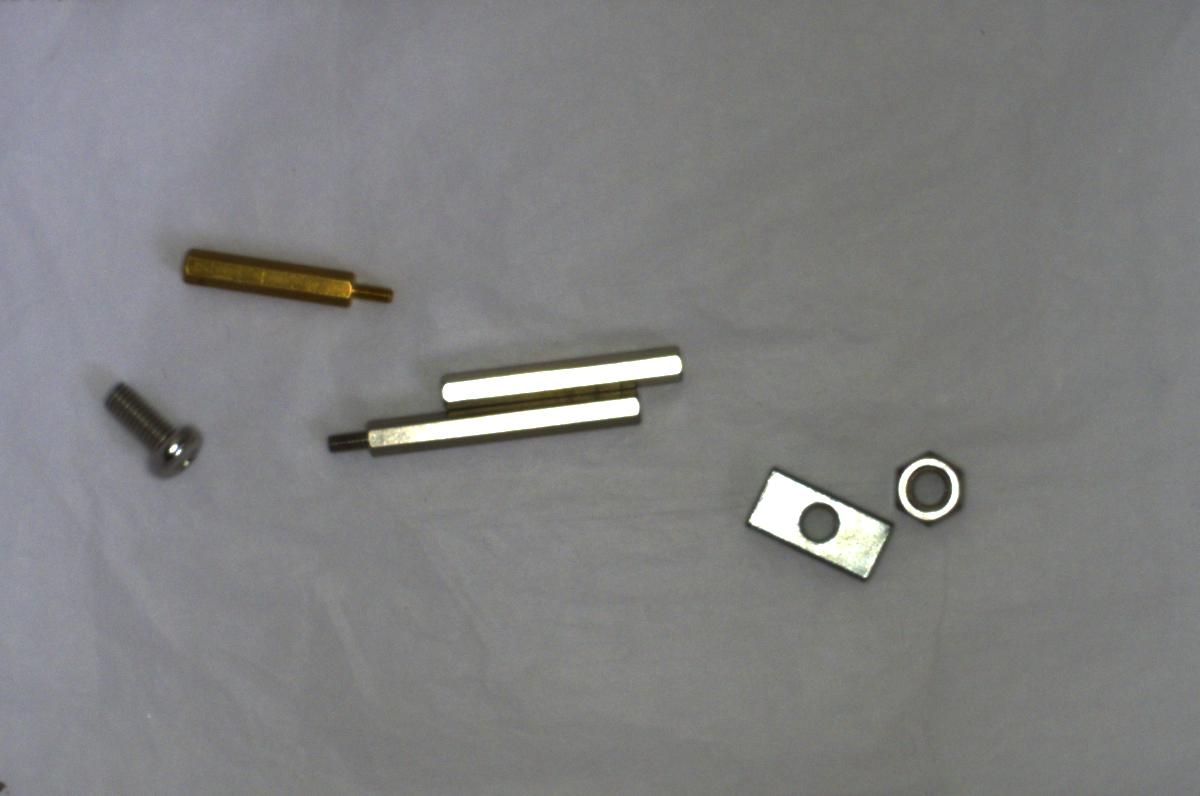Double hexagonal column: (434, 345, 688, 398)
Hexagon nut: (884, 440, 970, 530)
Hexagon pillar: (172, 241, 400, 314)
Hexagonal steel column: (325, 393, 648, 452)
Rectangular nut: (740, 463, 901, 585)
Round head screw: (98, 372, 208, 486)
